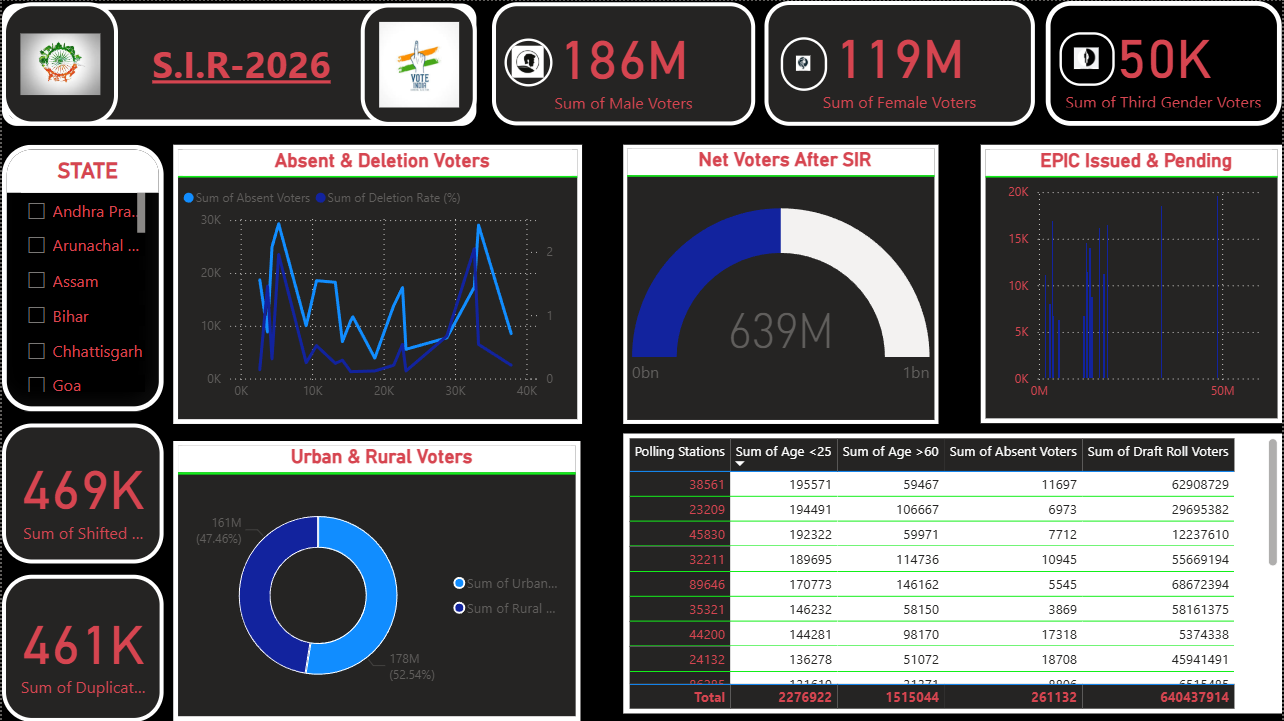

This screenshot's page, from the dashboard's own definition file:
{"tool":"powerbi","page":{"name":"Page 1","canvas":[1280,720],"ordinal":0},"visuals":[{"type":"textbox","box":[0,2.7,474.8,122.1],"z":0},{"type":"image","box":[0,1.2,116.2,123.5],"z":1000},{"type":"image","box":[358.3,2.4,116.2,122.3],"z":2000},{"type":"card","fields":{"Values":["Sum(SIR_Voters_Data.Male Voters)"]},"box":[489.9,1.4,263.5,123.5],"z":3000},{"type":"image","box":[502.6,37.9,47.7,47.7],"z":4000},{"type":"card","fields":{"Values":["Sum(SIR_Voters_Data.Female Voters)"]},"box":[763,0,270.3,124.9],"z":5000},{"type":"image","box":[778.9,36.7,46.5,53.8],"z":6000},{"type":"slicer","title":"STATE","fields":{"Values":["SIR_Voters_Data.State"]},"box":[0,144.1,161.9,266.2],"z":7000},{"type":"lineChart","title":"Absent & Deletion  Voters","fields":{"Category":["SIR_Voters_Data.Deceased Voters"],"Y":["Sum(SIR_Voters_Data.Absent Voters)"],"Y2":["Sum(SIR_Voters_Data.Deletion Rate (%))"]},"box":[171.2,144.3,408.4,278.8],"z":8000},{"type":"donutChart","title":" Urban & Rural Voters","fields":{"Y":["Sum(SIR_Voters_Data.Urban Voters)","Sum(SIR_Voters_Data.Rural Voters)"]},"box":[171.5,440.5,407.5,279.9],"z":9000},{"type":"tableEx","fields":{"Values":["SIR_Voters_Data.Polling Stations","Sum(SIR_Voters_Data.Age <25)","Sum(SIR_Voters_Data.Age >60)","Sum(SIR_Voters_Data.Absent Voters)","Sum(SIR_Voters_Data.Draft Roll Voters)"]},"box":[621.2,432.9,659.1,280],"z":10000},{"type":"card","fields":{"Values":["Sum(SIR_Voters_Data.Third Gender Voters)"]},"box":[1044.3,0,236,124.9],"z":11000},{"type":"image","box":[1057.8,31.8,55,53.8],"z":12000},{"type":"clusteredColumnChart","title":"EPIC Issued & Pending ","fields":{"Category":["SIR_Voters_Data.EPIC Issued"],"Y":["Sum(SIR_Voters_Data.EPIC Pending)"]},"box":[978.4,144.1,301.9,278.6],"z":13000},{"type":"gauge","title":"Net Voters After SIR","fields":{"Y":["Sum(SIR_Voters_Data.Net Voters After SIR)"]},"box":[621.2,144.3,315.5,278.8],"z":14000},{"type":"card","fields":{"Values":["Sum(SIR_Voters_Data.Duplicate Voters)"]},"box":[0,573.6,161.9,146.8],"z":15000},{"type":"card","fields":{"Values":["Sum(SIR_Voters_Data.Shifted Voters)"]},"box":[0,422.6,161.9,140],"z":16000}]}

Visuals, with their boxes in screenshot pixels (x1, y1, x2, y2), scaled from the page's 1280x720 canvas onto the 1284x721 screenshot:
textbox: [x1=0, y1=3, x2=476, y2=125]
image: [x1=0, y1=1, x2=117, y2=125]
image: [x1=359, y1=2, x2=476, y2=125]
card - Sum(SIR_Voters_Data.Male Voters): [x1=491, y1=1, x2=756, y2=125]
image: [x1=504, y1=38, x2=552, y2=86]
card - Sum(SIR_Voters_Data.Female Voters): [x1=765, y1=0, x2=1037, y2=125]
image: [x1=781, y1=37, x2=828, y2=91]
"STATE" slicer: [x1=0, y1=144, x2=162, y2=411]
"Absent & Deletion  Voters" lineChart: [x1=172, y1=145, x2=581, y2=424]
" Urban & Rural Voters" donutChart: [x1=172, y1=441, x2=581, y2=720]
tableEx - SIR_Voters_Data.Polling Stations x Sum(SIR_Voters_Data.Age <25): [x1=623, y1=434, x2=1283, y2=714]
card - Sum(SIR_Voters_Data.Third Gender Voters): [x1=1048, y1=0, x2=1283, y2=125]
image: [x1=1061, y1=32, x2=1116, y2=86]
"EPIC Issued & Pending " clusteredColumnChart: [x1=981, y1=144, x2=1283, y2=423]
"Net Voters After SIR" gauge: [x1=623, y1=145, x2=940, y2=424]
card - Sum(SIR_Voters_Data.Duplicate Voters): [x1=0, y1=574, x2=162, y2=720]
card - Sum(SIR_Voters_Data.Shifted Voters): [x1=0, y1=423, x2=162, y2=563]
